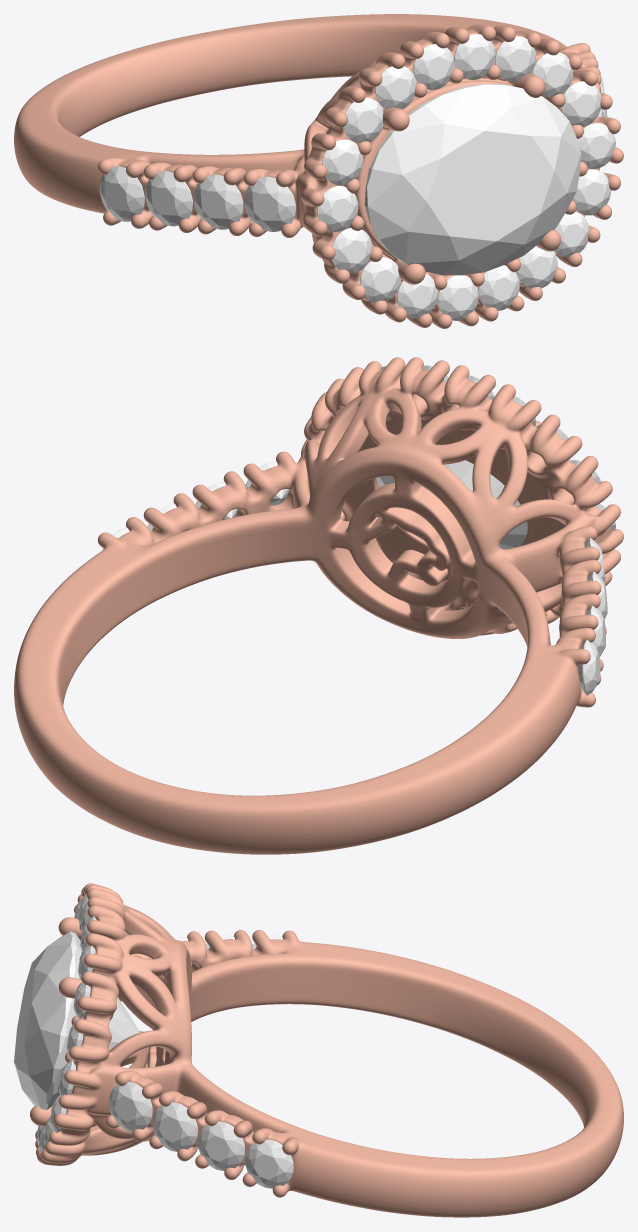
File: aaa.glb
3 views of the same model, one above another, from view 1: azimuth 30°, elevation 25°; view 2: azimuth 150°, elevation 25°; view 3: azimuth 270°, elevation 25° (orthographic). The views are drawn at different scales.
Visible parts, largest first — view 1: /TRG2005609_DS.3dm, Diamond_Round (×22), Diamond_Oval; view 2: /TRG2005609_DS.3dm, Diamond_Oval, Diamond_Round; view 3: /TRG2005609_DS.3dm, Diamond_Oval, Diamond_Round (×4).
Part boxes in pixels (left/top/right/bottom): /TRG2005609_DS.3dm: left=14, top=14, right=623, bottom=328; Diamond_Round (×22): left=99, top=34, right=615, bottom=320; Diamond_Oval: left=364, top=84, right=581, bottom=275; /TRG2005609_DS.3dm: left=14, top=357, right=623, bottom=854; Diamond_Oval: left=376, top=460, right=527, bottom=549; Diamond_Round: left=578, top=640, right=600, bottom=695; /TRG2005609_DS.3dm: left=30, top=883, right=623, bottom=1217; Diamond_Oval: left=14, top=931, right=139, bottom=1110; Diamond_Round (×4): left=109, top=1081, right=293, bottom=1188.
Bounding box in the file's own units: 2.46 × 1.28 × 2.88.
